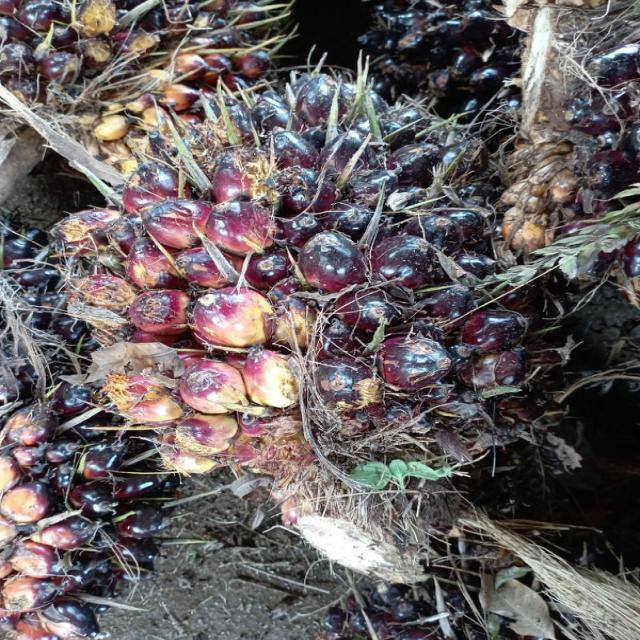fraksi 1: (32, 58, 546, 549)
